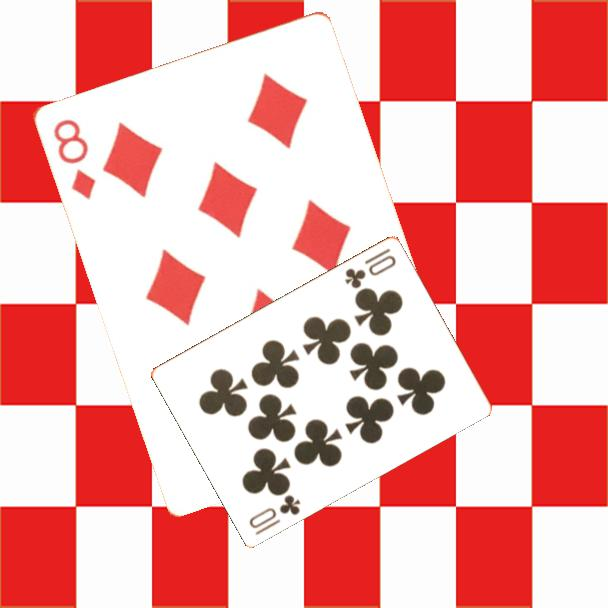c10: (245, 491, 304, 538), (341, 244, 399, 291)
d08: (49, 115, 98, 203)
